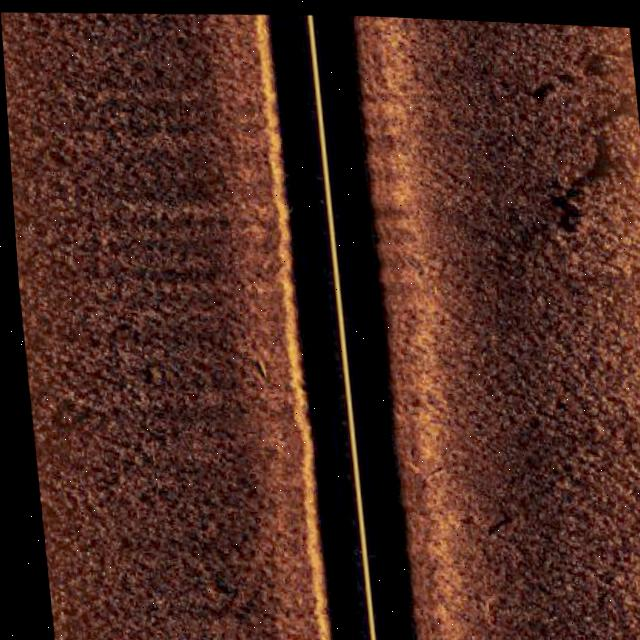mine: (241, 346, 272, 382)
